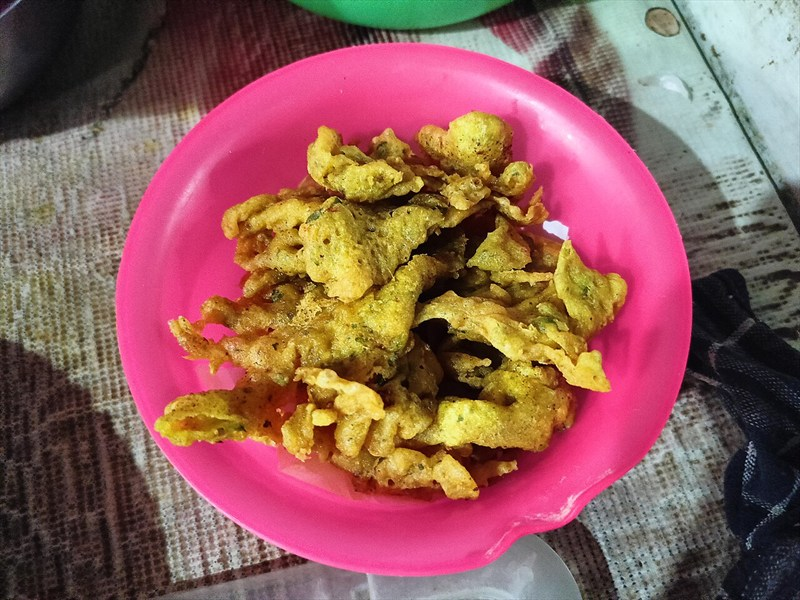Tempe Goreng: (152, 74, 648, 506)
